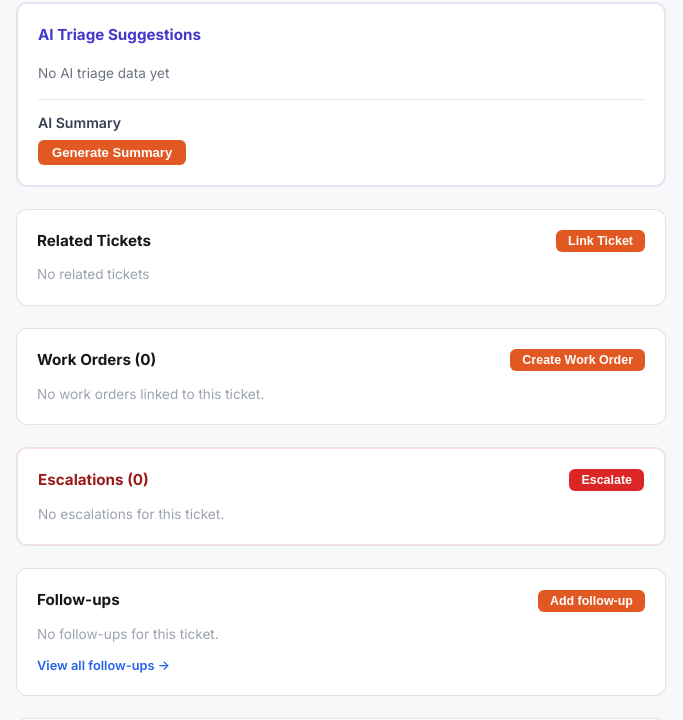
it: TicketDetail — Work Order assignee source › populates the assignee select from /work-orders/assignable-users, not the generic /users list
(page scrolled)
Click the button "Create Work Order". click: [578, 360]
box: [510,349,645,371]
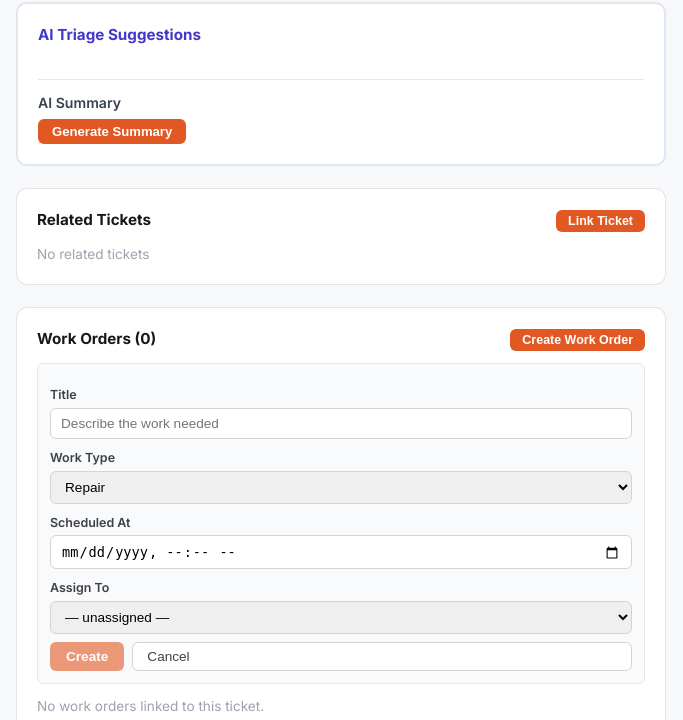
expect the 2nd dropdown "Ana Technician" is shown: met, box [50,601,632,634]
